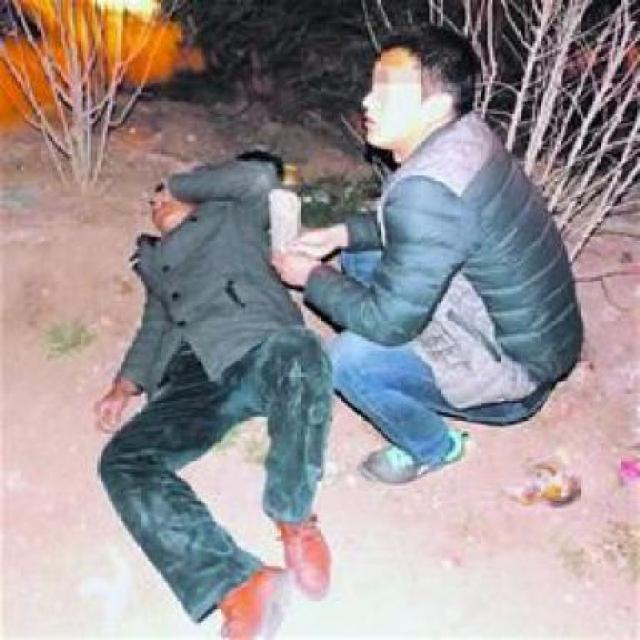fall: (80, 127, 352, 638)
